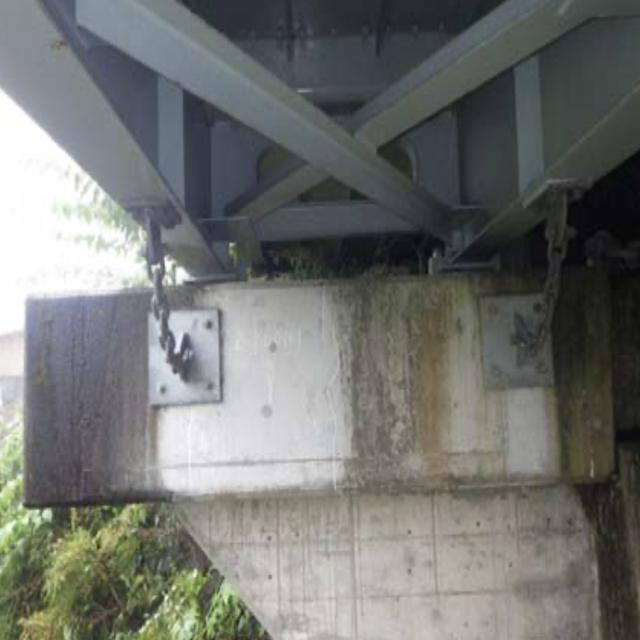leakage: (20, 283, 169, 504), (347, 240, 466, 504)
